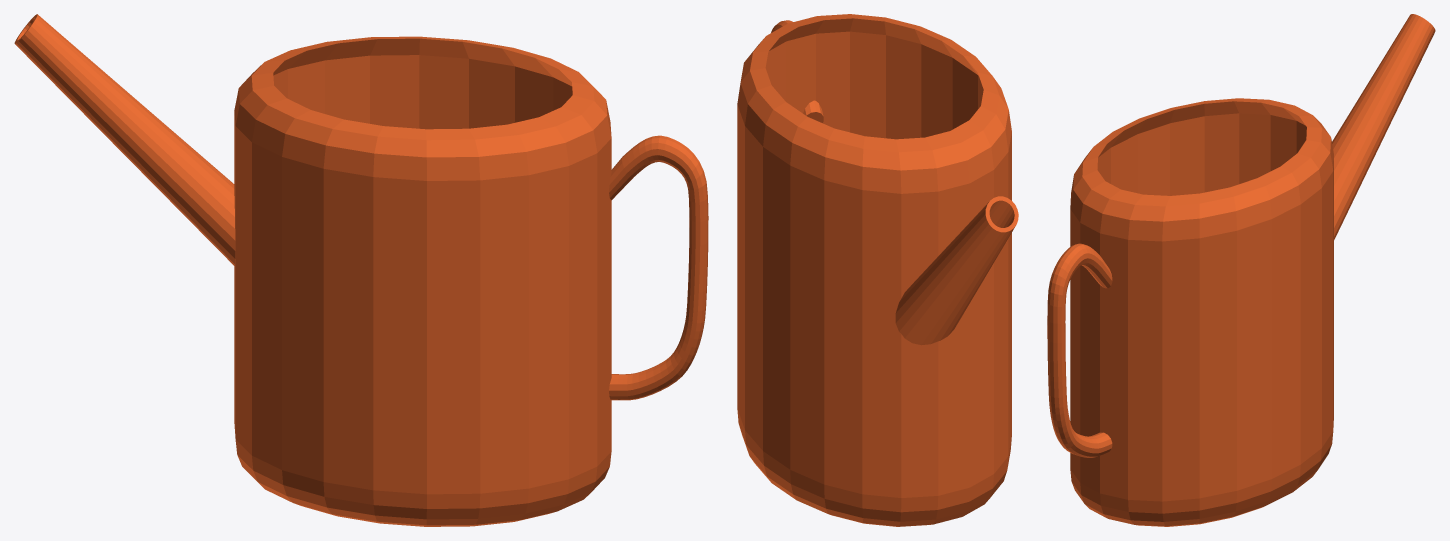
File: 5LfzGFQ2yTw.glb
3 renders of one model, left to right at view 1: azimuth 30°, elevation 25°; view 2: azimuth 150°, elevation 25°; view 3: azimuth 270°, elevation 25°, orthographic. The views are drawn at different scales.
Visible parts, largest first — view 1: Cylinder001; view 2: Cylinder001; view 3: Cylinder001.
Boxes of the visible parts, <box> form: Cylinder001: <box>14,14,708,526</box>; Cylinder001: <box>737,14,1018,526</box>; Cylinder001: <box>1047,14,1435,526</box>.
Size of the model in its own units: 1.15 by 0.9999 by 0.9814.
